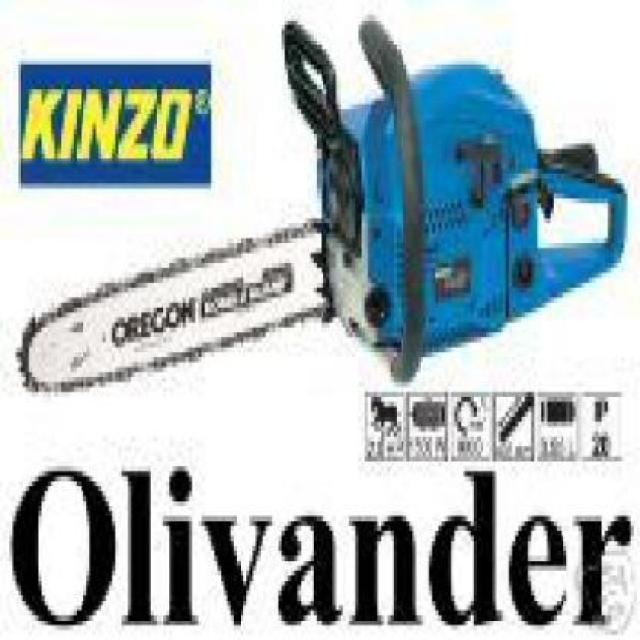Chainsaw: (17, 16, 628, 402)
